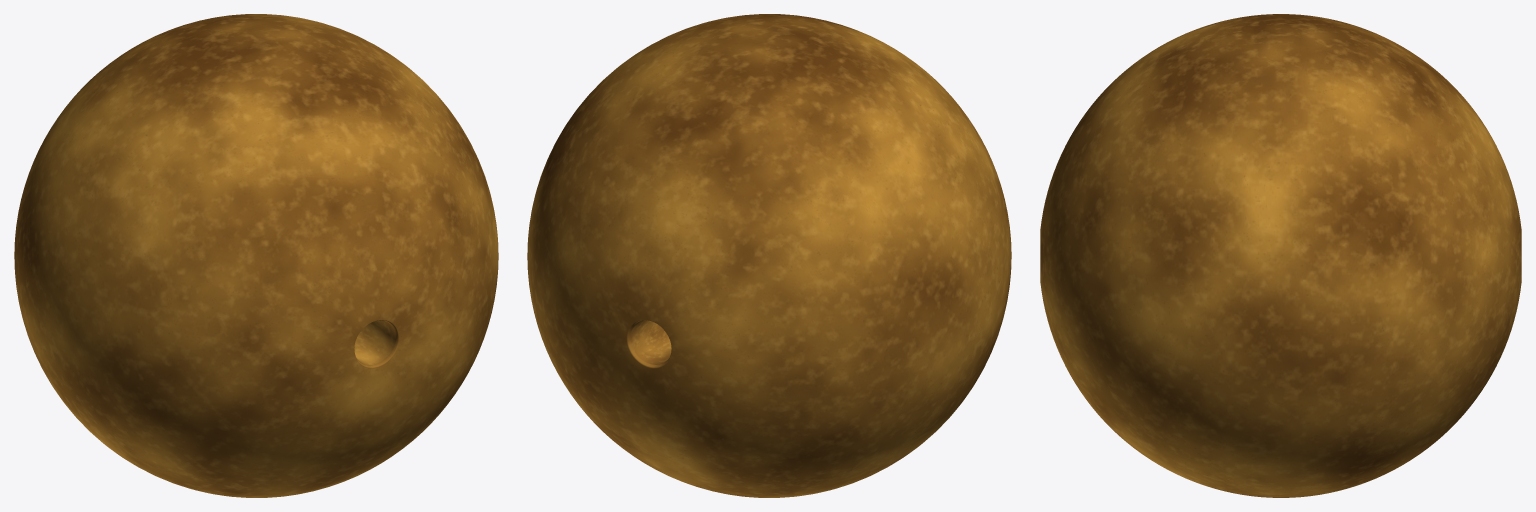
File: yellow-sapphire-10mm.glb
3 views of the same model, side by side, from view 1: azimuth 30°, elevation 25°; view 2: azimuth 150°, elevation 25°; view 3: azimuth 270°, elevation 25° (orthographic).
Parts seen in each view (by area): view 1: yellow-sapphire.001; view 2: yellow-sapphire.001; view 3: yellow-sapphire.001.
Boxes of the visible parts, bbox=[...] form: yellow-sapphire.001: bbox=[14, 14, 498, 497]; yellow-sapphire.001: bbox=[527, 14, 1011, 497]; yellow-sapphire.001: bbox=[1040, 14, 1521, 497].
Size of the model in its own units: 0.01 by 0.01 by 0.00994.
Materials: 2 (1 with a texture image).
